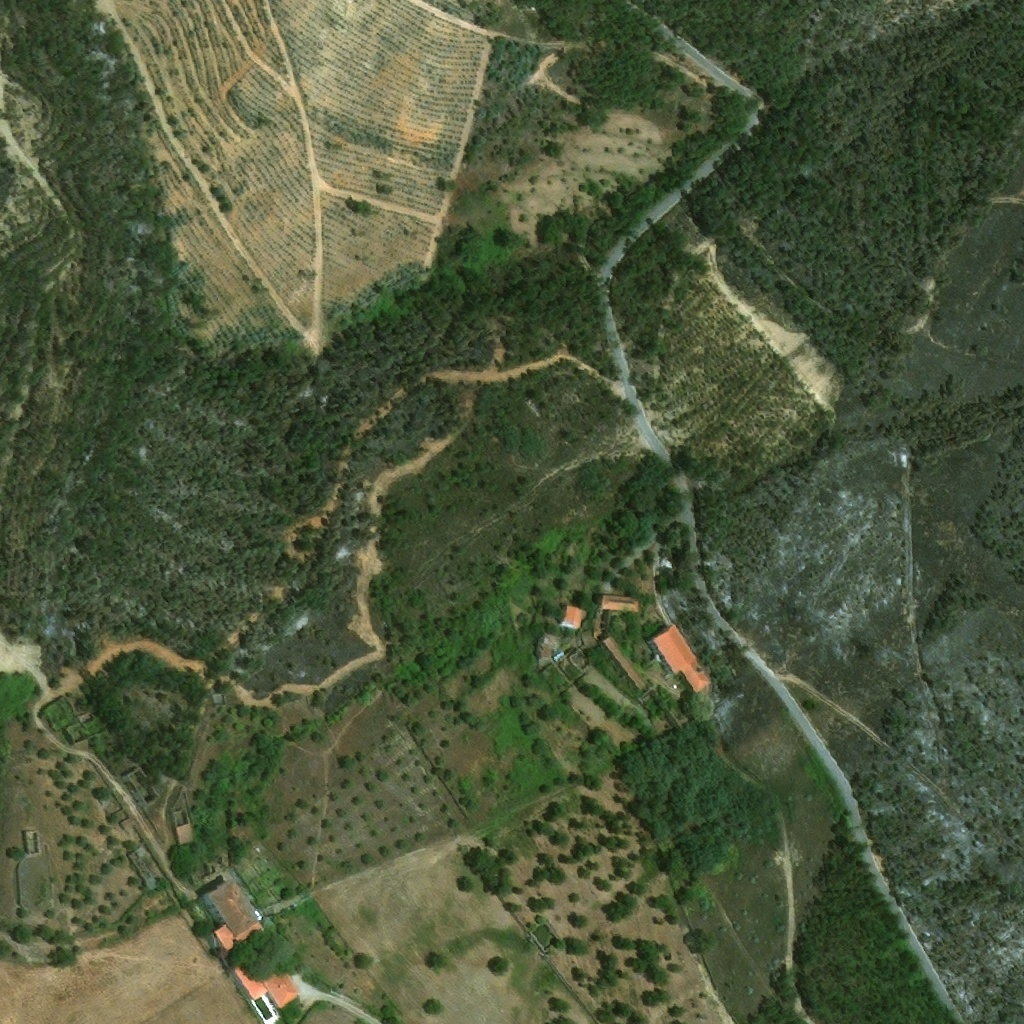0 no-damage: (644, 622, 713, 694), (230, 946, 303, 1009), (203, 877, 263, 950), (602, 633, 651, 691), (129, 850, 160, 891), (557, 602, 588, 629), (598, 594, 643, 612), (538, 629, 560, 658), (176, 822, 195, 846)
